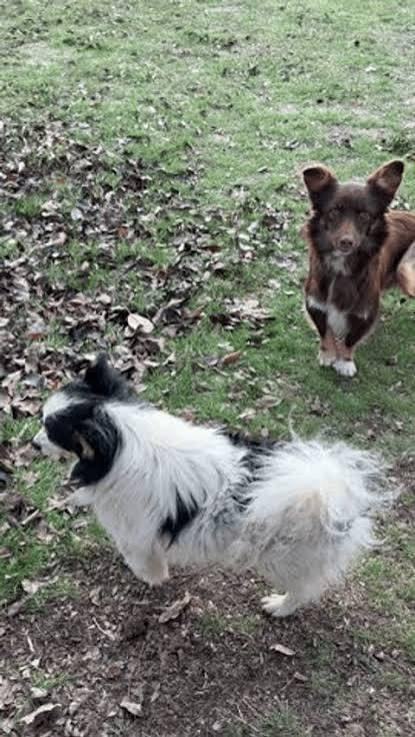adult_dog: (30, 350, 400, 619), (301, 157, 415, 378)
